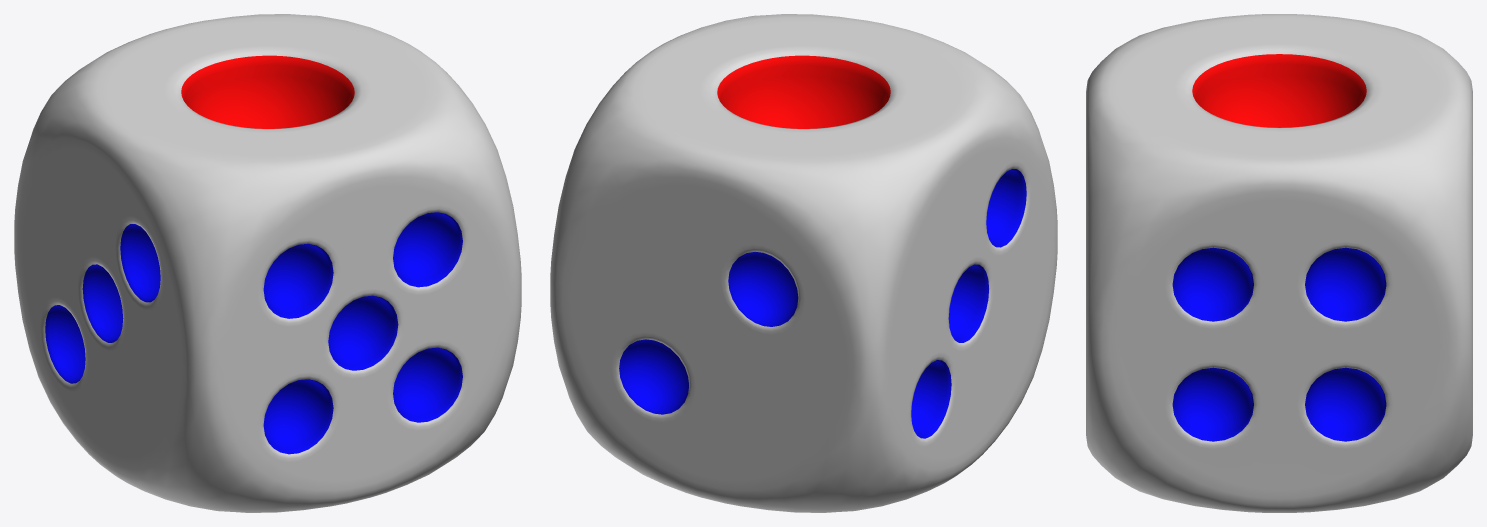
File: DefDice.glb
3 views of the same model, side by side, from view 1: azimuth 30°, elevation 25°; view 2: azimuth 150°, elevation 25°; view 3: azimuth 270°, elevation 25° (orthographic).
Visible parts, largest first — view 1: Dice; view 2: Dice; view 3: Dice.
Boxes of the visible parts, box(x1,y1,x2,y2) form: Dice: box(14, 14, 521, 512); Dice: box(550, 14, 1057, 512); Dice: box(1086, 14, 1472, 512).
Size of the model in its own units: 0.5 by 0.5 by 0.5001.
